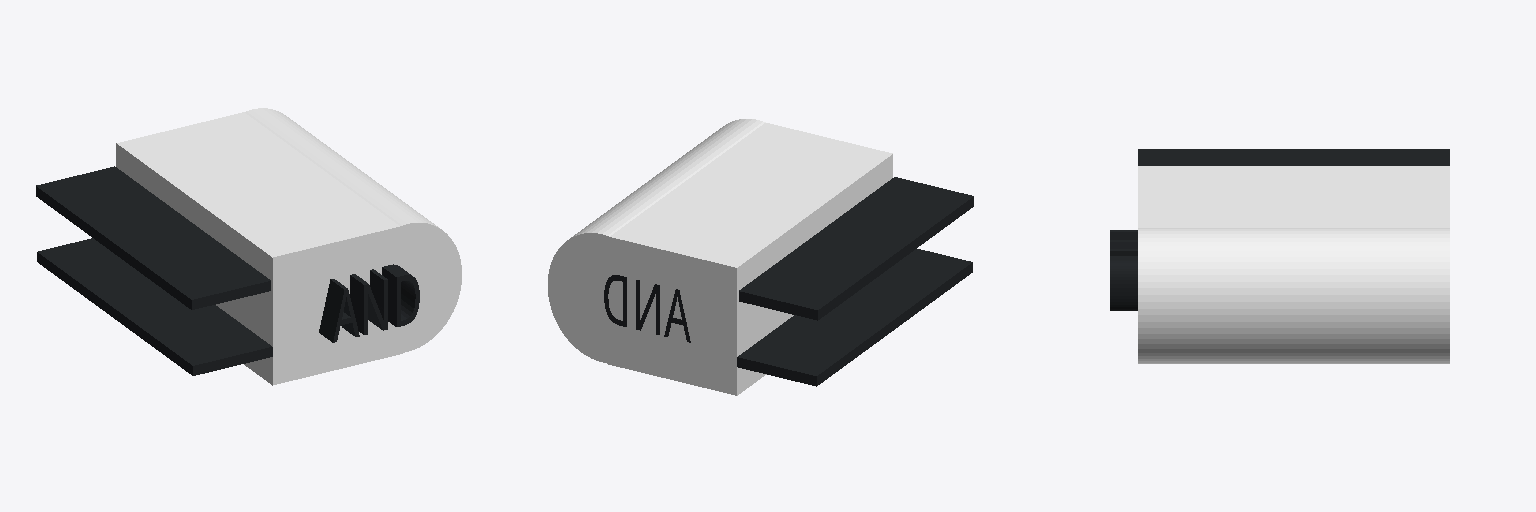
The model's file is tinker.obj.
3 views of the same model, side by side, from view 1: azimuth 30°, elevation 25°; view 2: azimuth 150°, elevation 25°; view 3: azimuth 270°, elevation 25° (orthographic).
Parts seen in each view (by area): view 1: obj_0; view 2: obj_0; view 3: obj_0.
Boxes of the visible parts, box(x1,y1,x2,y2) form: obj_0: box(36, 108, 461, 385); obj_0: box(548, 119, 973, 395); obj_0: box(1110, 149, 1449, 363).
Bounding box in the file's own units: 11 × 5 × 12.